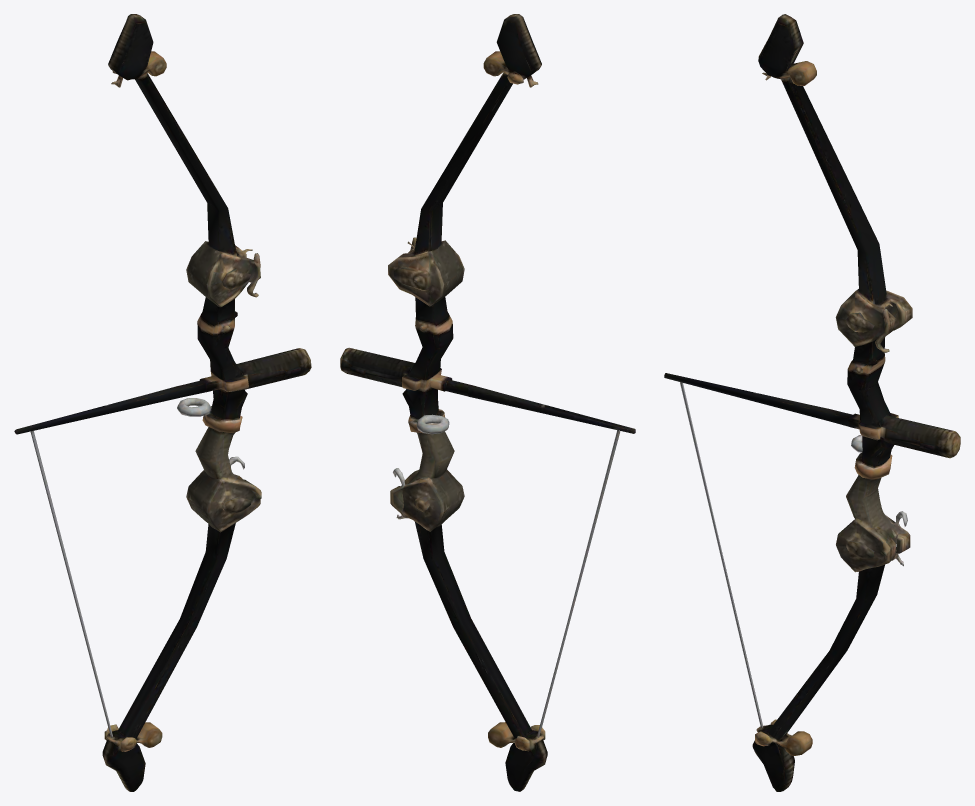
The model's file is bow.glb.
3 views of the same model, side by side, from view 1: azimuth 30°, elevation 25°; view 2: azimuth 150°, elevation 25°; view 3: azimuth 330°, elevation 25° (orthographic).
Visible parts, largest first — view 1: base_model_path; view 2: base_model_path; view 3: base_model_path.
Boxes of the visible parts, x1=… form: base_model_path: x1=14, y1=14, x2=311, y2=791; base_model_path: x1=340, y1=14, x2=635, y2=791; base_model_path: x1=664, y1=14, x2=960, y2=791.
Bounding box in the file's own units: 0.3934 × 1 × 0.0822.
Materials: 1 (1 with a texture image).
